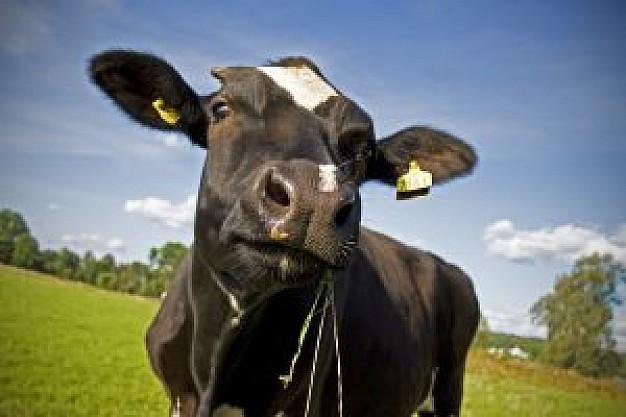muzzles: (224, 155, 360, 300)
